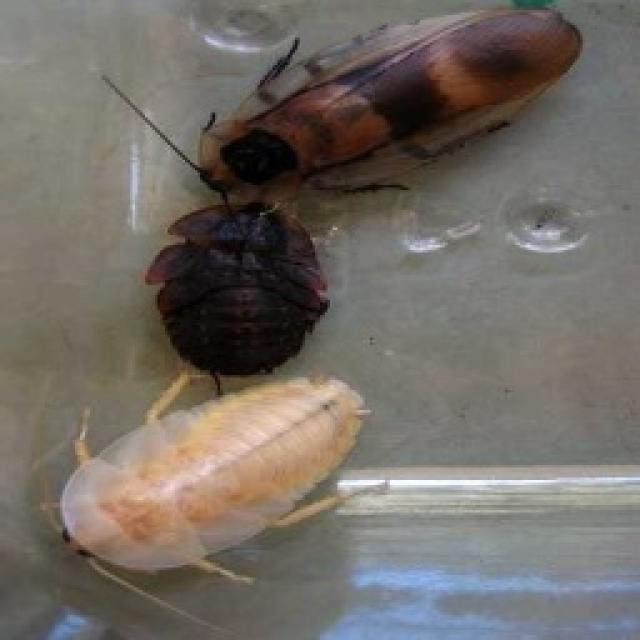cockroach: (175, 2, 586, 206), (60, 373, 375, 580)
